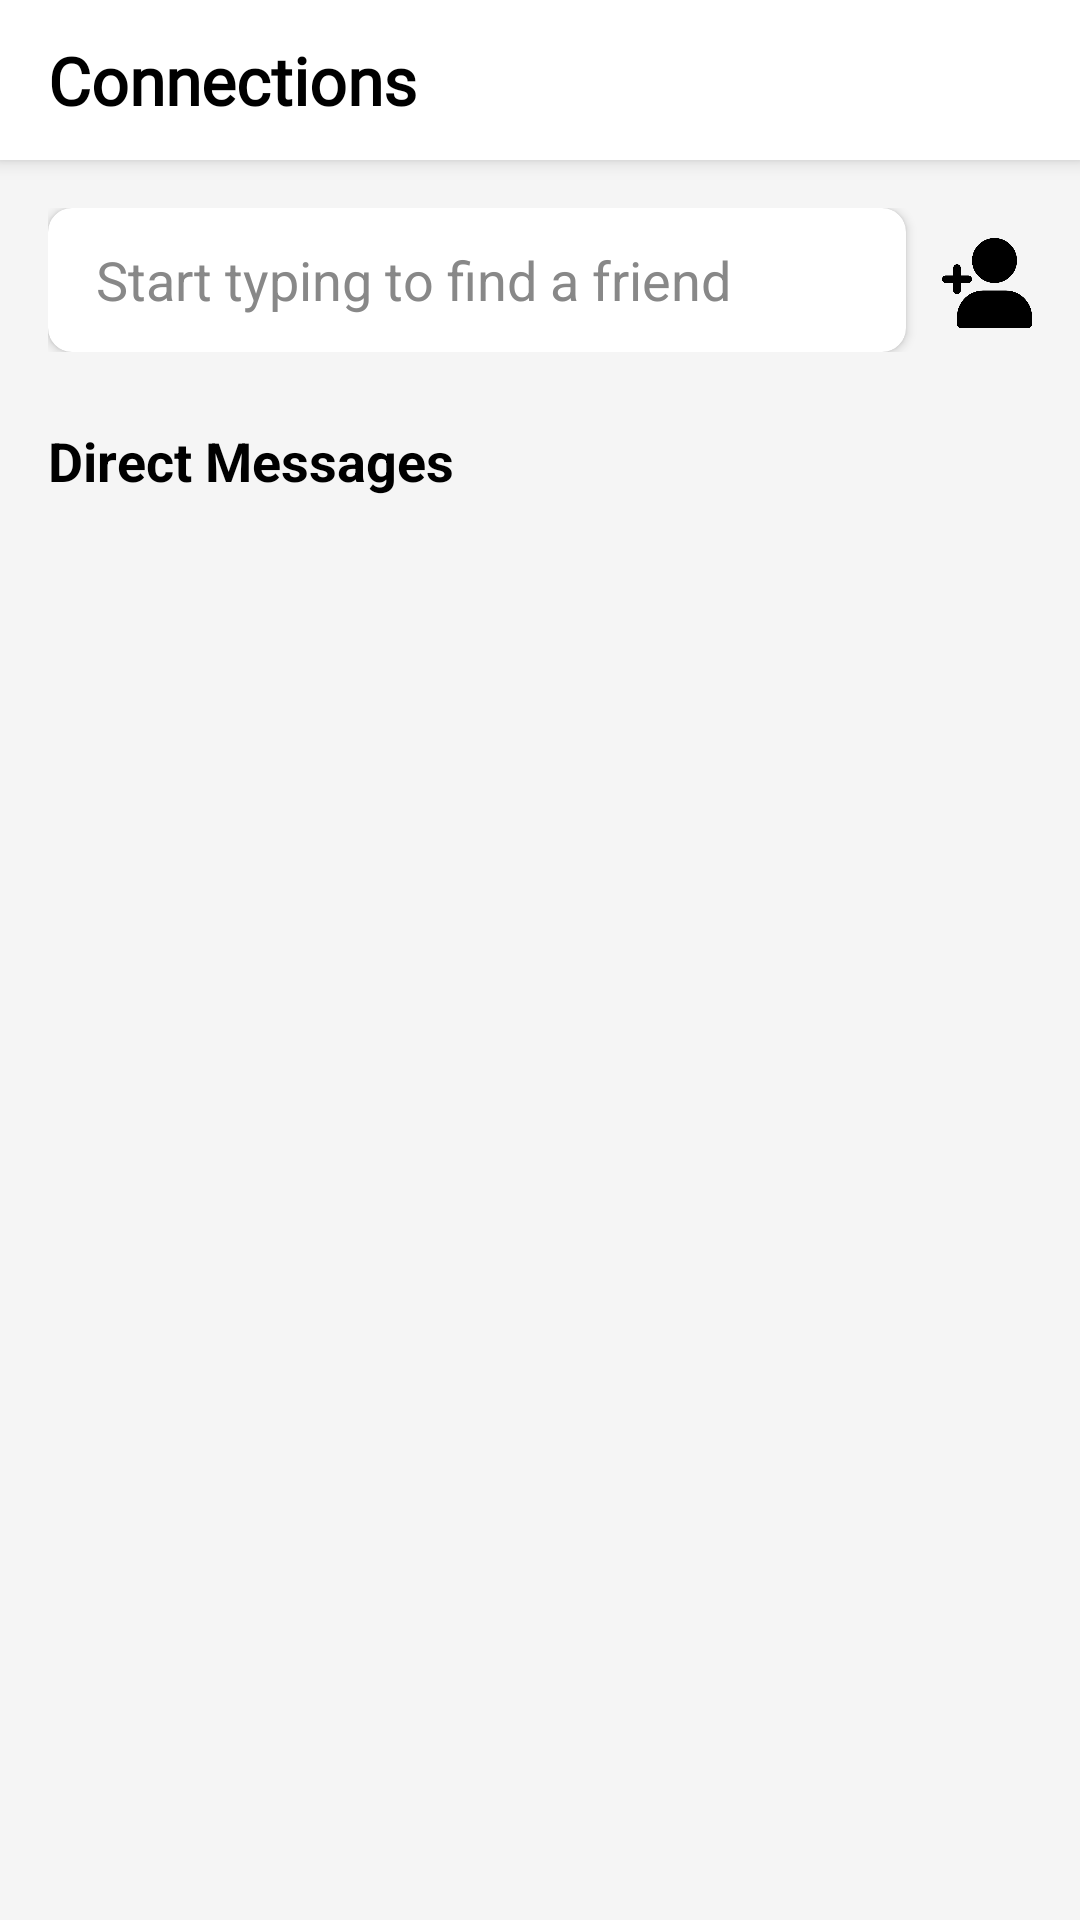

Where icons sit on this 1080×1920 app screen, as bbox=(x1, y1, x2, y2):
Add Friend: bbox=(942, 238, 1032, 328)
